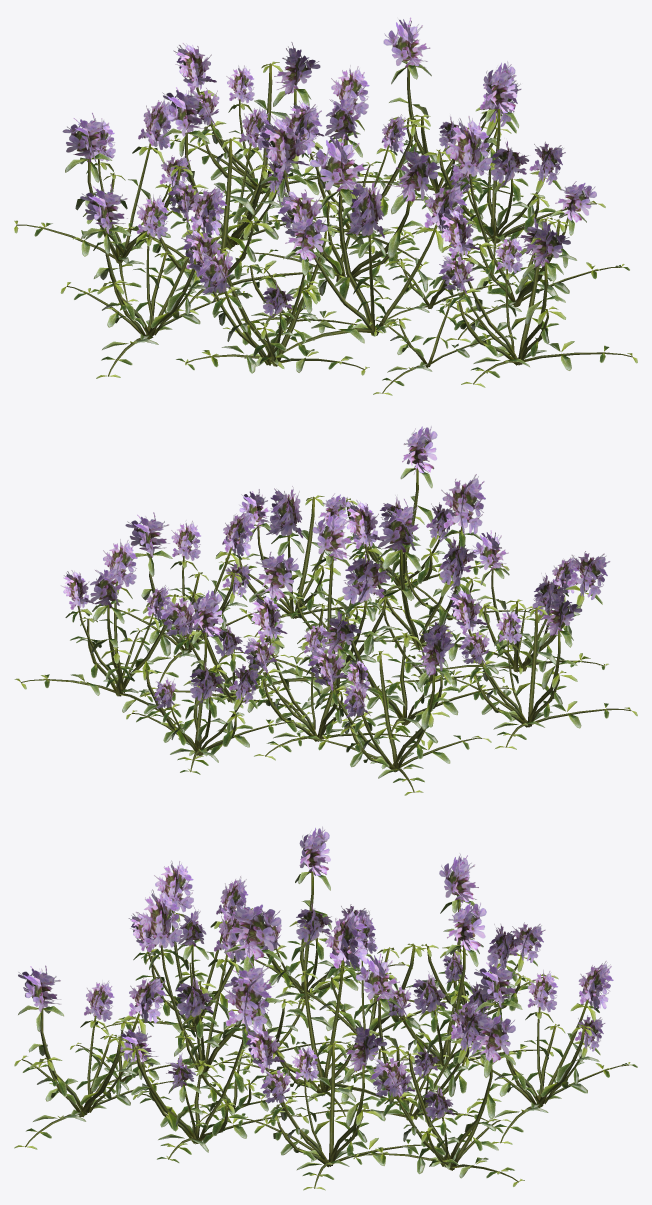
File: pink_flower.glb
The picture shows the model from 3 angles, top to bottom: view 1: azimuth 30°, elevation 25°; view 2: azimuth 150°, elevation 25°; view 3: azimuth 270°, elevation 25°; orthographic projection. The views are drawn at different scales.
Visible parts, largest first — view 1: bq_Flower_Thymus-serpyllum_C_summer; view 2: bq_Flower_Thymus-serpyllum_C_summer; view 3: bq_Flower_Thymus-serpyllum_C_summer.
Boxes of the visible parts, x1,y1,x2,y2 form: bq_Flower_Thymus-serpyllum_C_summer: (14,17,637,395); bq_Flower_Thymus-serpyllum_C_summer: (14,426,637,795); bq_Flower_Thymus-serpyllum_C_summer: (14,826,637,1190).
Size of the model in its own units: 0.326 by 0.108 by 0.3416.
2 materials, 2 textured.
